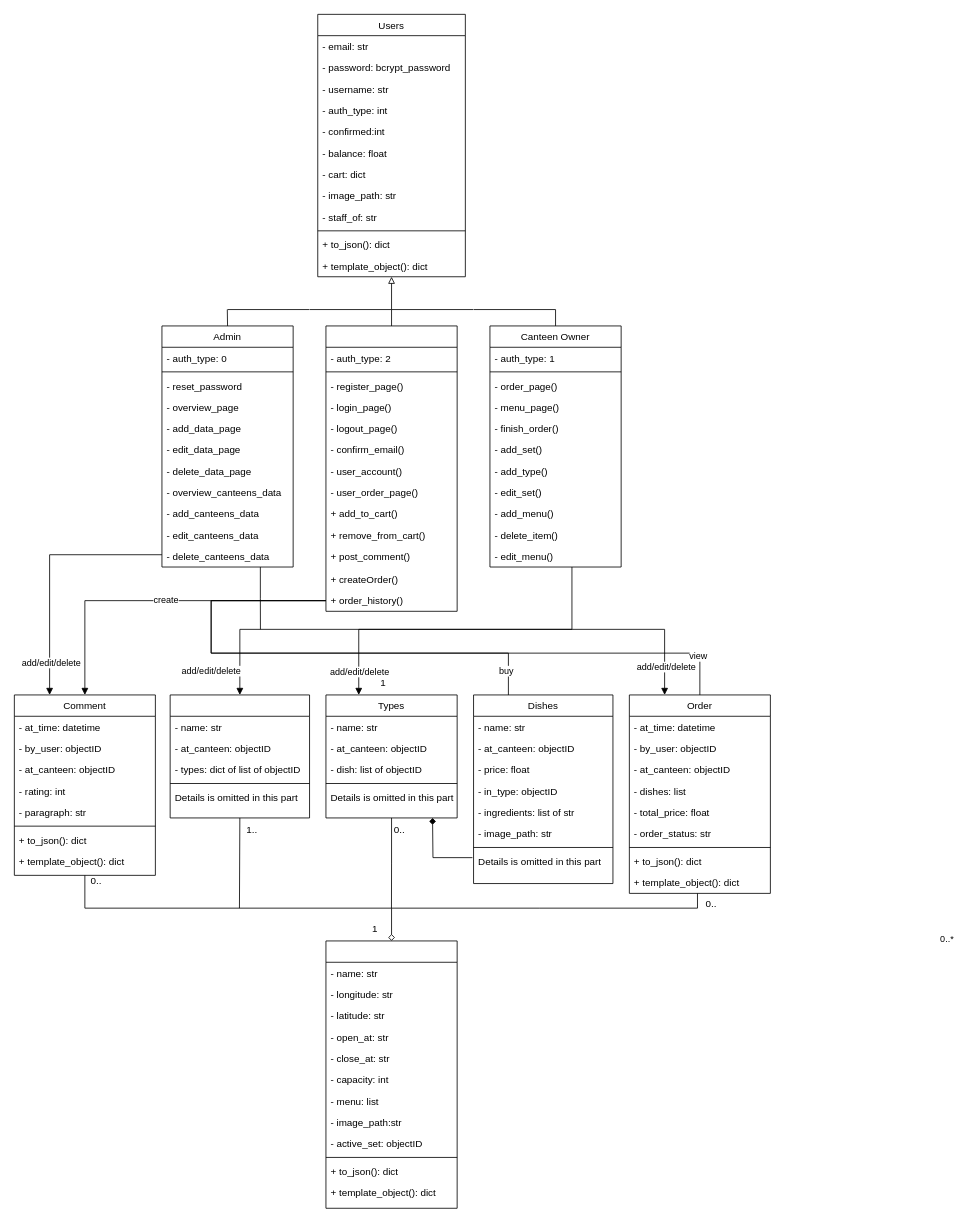
Image size: 968x1223. Some labels were removed from this diagram. Each missing label, with the box of its shape:
Canteens: (325, 940, 457, 1208)
Customer: (325, 325, 457, 611)
Set: (169, 694, 310, 818)
